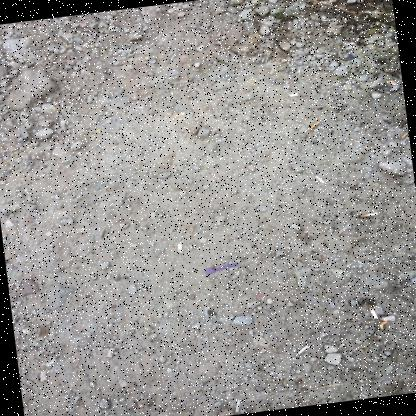Cigarette: (307, 121, 320, 130), (369, 306, 378, 319), (358, 212, 377, 218), (297, 345, 308, 354), (314, 175, 324, 183), (107, 347, 115, 357), (382, 315, 395, 321), (379, 320, 387, 329), (173, 112, 184, 118), (235, 399, 240, 412), (177, 243, 182, 253), (289, 92, 297, 97), (346, 42, 354, 46), (385, 80, 394, 83), (321, 19, 332, 21), (293, 23, 297, 27)
Plastic utensils: (204, 263, 238, 274)
Unlabeled litter: (254, 294, 267, 296)
